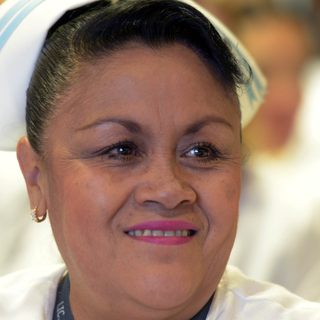eye: (93, 138, 145, 164), (176, 139, 226, 165)
